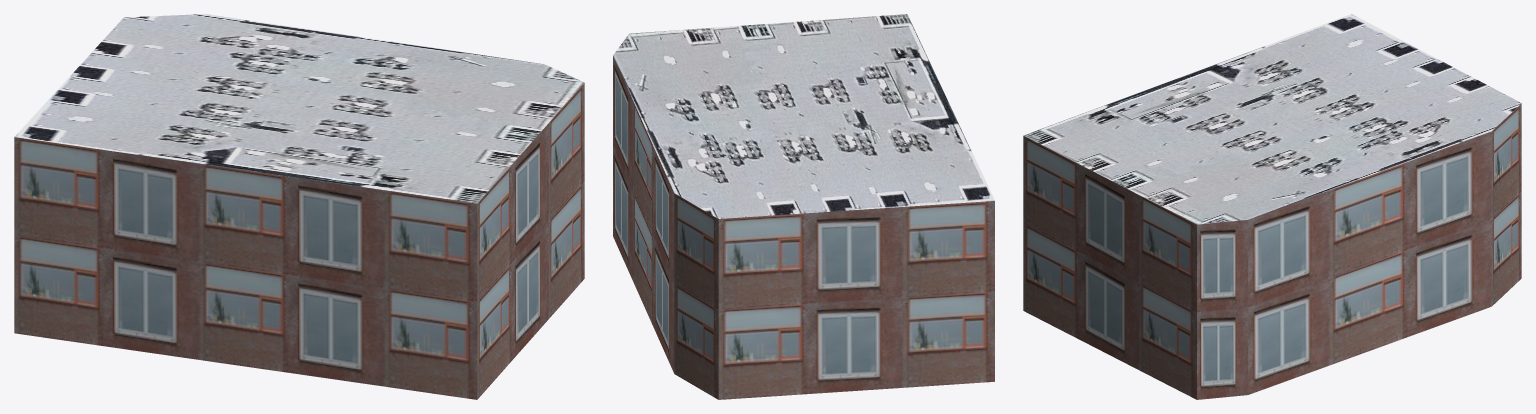
File: ResTex__1557.fbx
3 renders of one model, left to right at view 1: azimuth 30°, elevation 25°; view 2: azimuth 150°, elevation 25°; view 3: azimuth 270°, elevation 25°, orthographic. The views are drawn at different scales.
Parts seen in each view (by area): view 1: CityEngineMaterial_19_m, CityEngineMaterial_15_m; view 2: CityEngineMaterial_19_m, CityEngineMaterial_15_m; view 3: CityEngineMaterial_19_m, CityEngineMaterial_15_m.
Boxes of the visible parts, x1,y1,x2,y2 form: CityEngineMaterial_19_m: (14,83,584,399); CityEngineMaterial_15_m: (15,14,584,203); CityEngineMaterial_19_m: (613,56,994,399); CityEngineMaterial_15_m: (613,14,994,218); CityEngineMaterial_19_m: (1023,103,1521,399); CityEngineMaterial_15_m: (1023,14,1521,224).
Bounding box in the file's own units: 15.47 × 6 × 15.47.
Materials: 2 (2 with a texture image).
